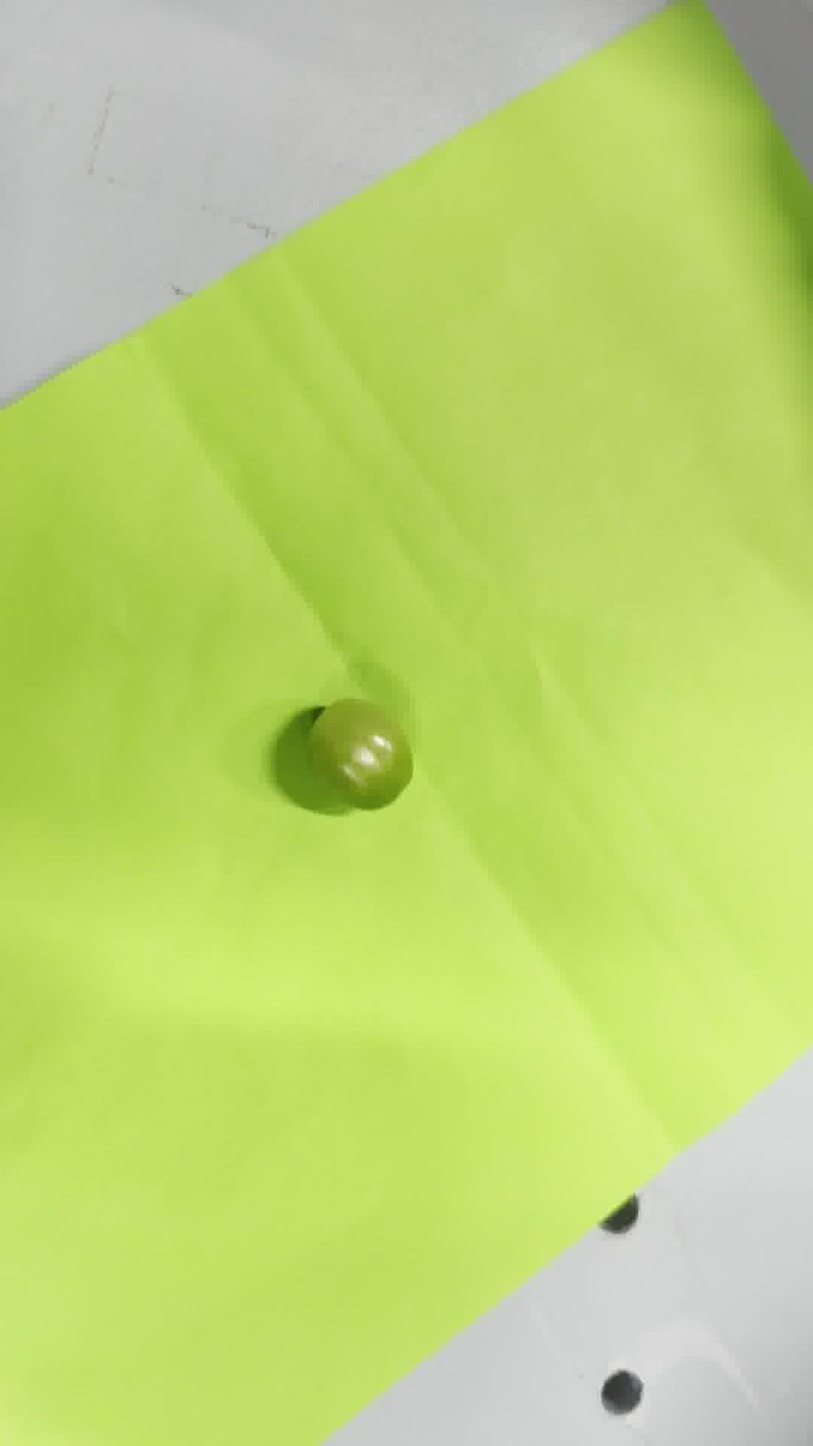green_cherry_tomato: (311, 699, 413, 809)
